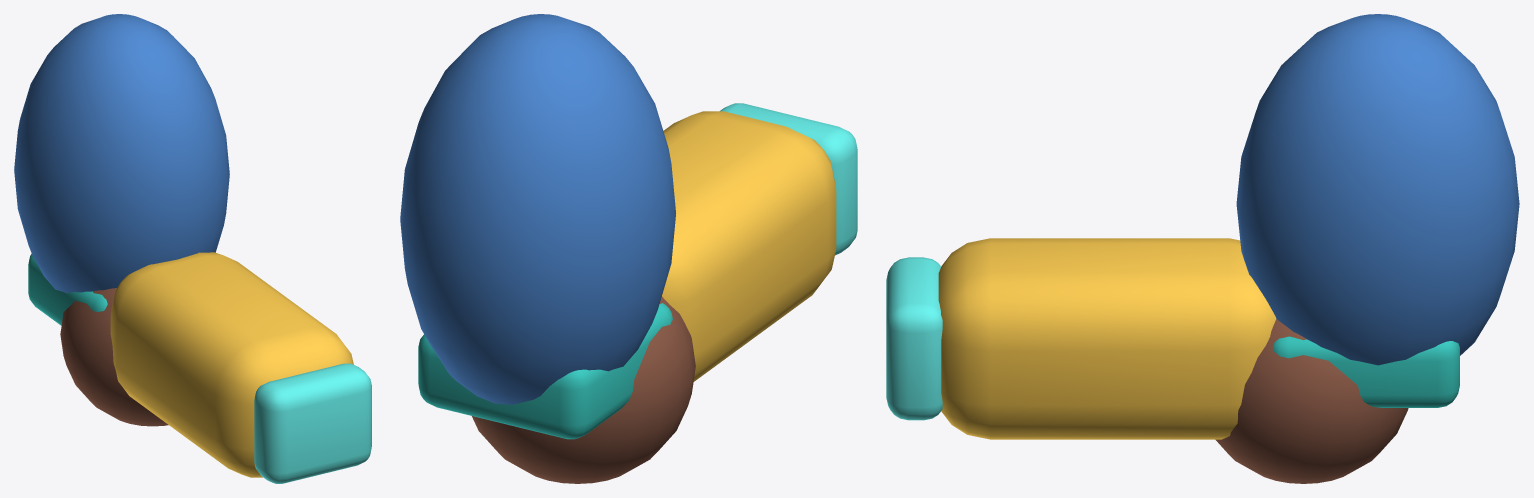
File: hero_arm_r.glb
3 views of the same model, side by side, from view 1: azimuth 30°, elevation 25°; view 2: azimuth 150°, elevation 25°; view 3: azimuth 270°, elevation 25° (orthographic). The views are drawn at different scales.
Parts seen in each view (by area): view 1: hero arm_r; view 2: hero arm_r; view 3: hero arm_r.
Boxes of the visible parts, left/top/right/bottom form: hero arm_r: left=14, top=14, right=371, bottom=483; hero arm_r: left=400, top=14, right=857, bottom=483; hero arm_r: left=886, top=14, right=1519, bottom=483.
Size of the model in its own units: 0.34 by 0.67 by 0.85.
